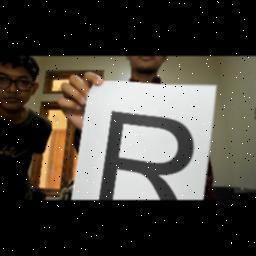r: (98, 104, 198, 200)
